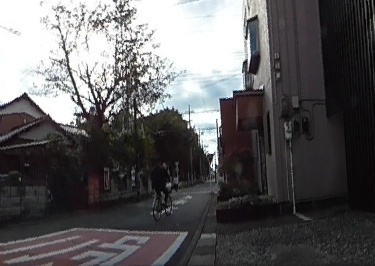person: (149, 156, 170, 207)
